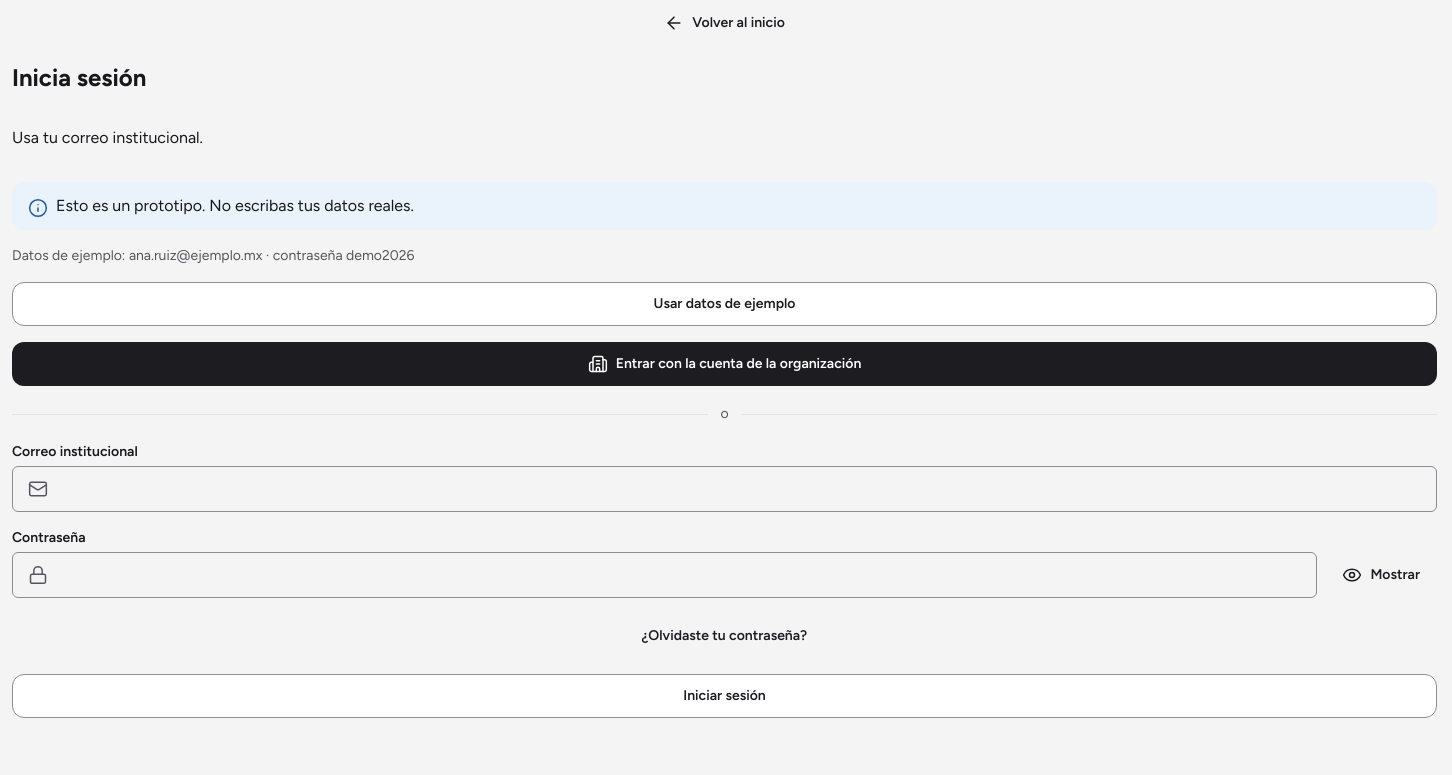
Test case: A1 sign-in view › S-A1-1: empty submit shows both inline errors and a focused summary, no request
Click the button "Iniciar sesión" at (724, 696), box left=12, top=674, right=1437, bottom=718
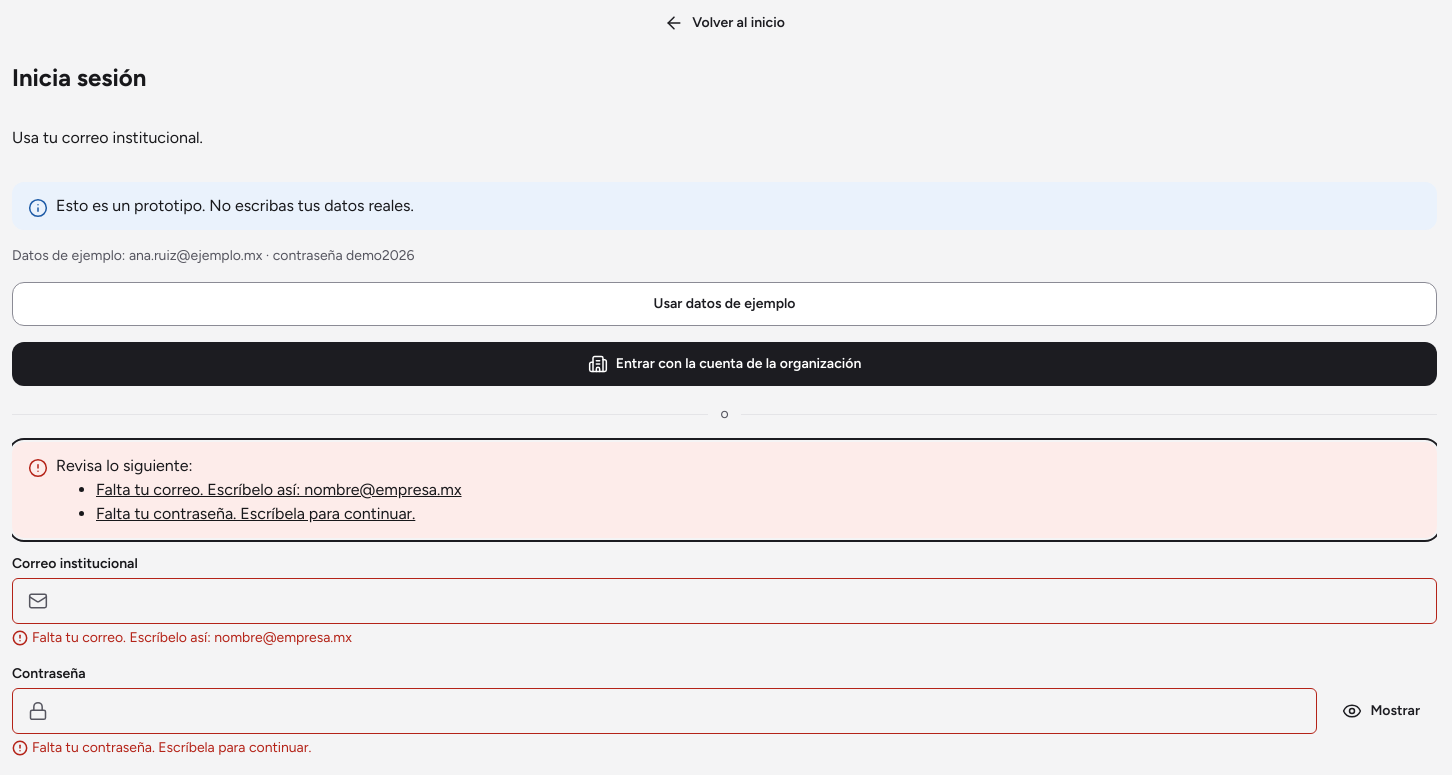
Expected: the message shows "Revisa lo siguiente:", left=56, top=456, right=192, bottom=475
Expected: the number of links "Falta tu correo. Escríbelo así: nombre@empresa.mx" is 2, left=96, top=480, right=462, bottom=499; left=12, top=629, right=352, bottom=646
Expected: the number of links "Falta tu contraseña. Escríbela para continuar." is 2, left=96, top=504, right=415, bottom=523; left=12, top=739, right=311, bottom=756
